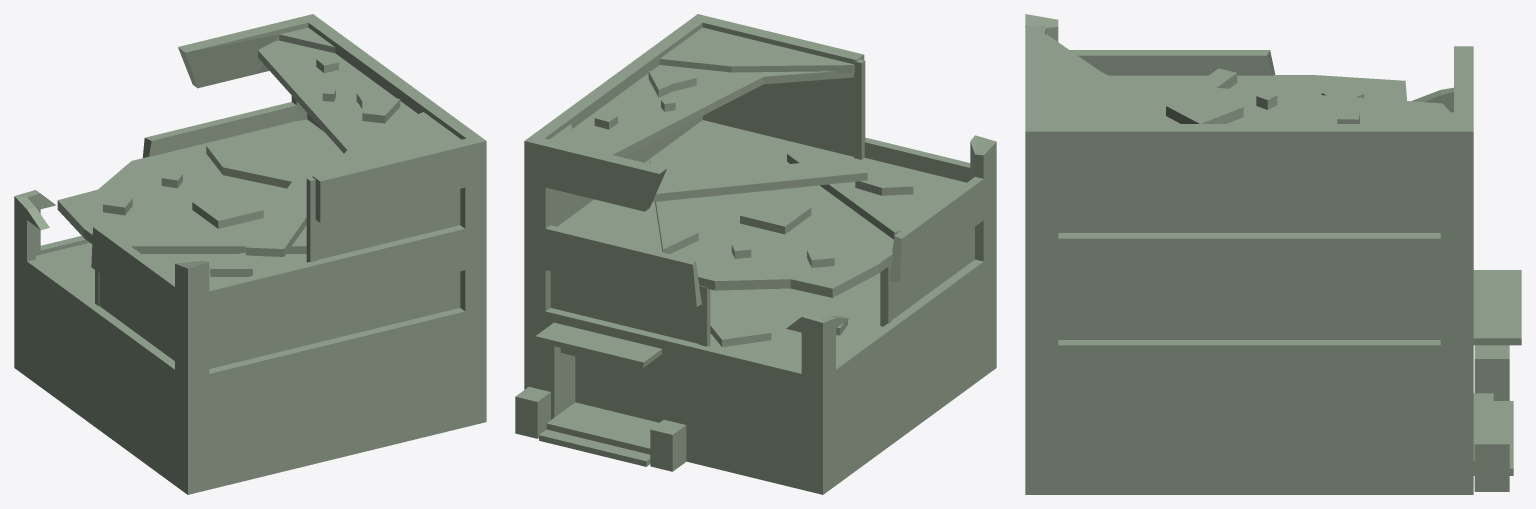
Rendered from office_damaged_01.fbx.
3 views of the same model, side by side, from view 1: azimuth 30°, elevation 25°; view 2: azimuth 150°, elevation 25°; view 3: azimuth 270°, elevation 25° (orthographic). The views are drawn at different scales.
Parts seen in each view (by area): view 1: office_damaged_01; view 2: office_damaged_01; view 3: office_damaged_01.
Part boxes in pixels (x1,y1,x2,y2): office_damaged_01: (14,14,486,494); office_damaged_01: (515,14,996,494); office_damaged_01: (1025,14,1521,494).
Size of the model in its own units: 13.62 by 12.24 by 15.17.
